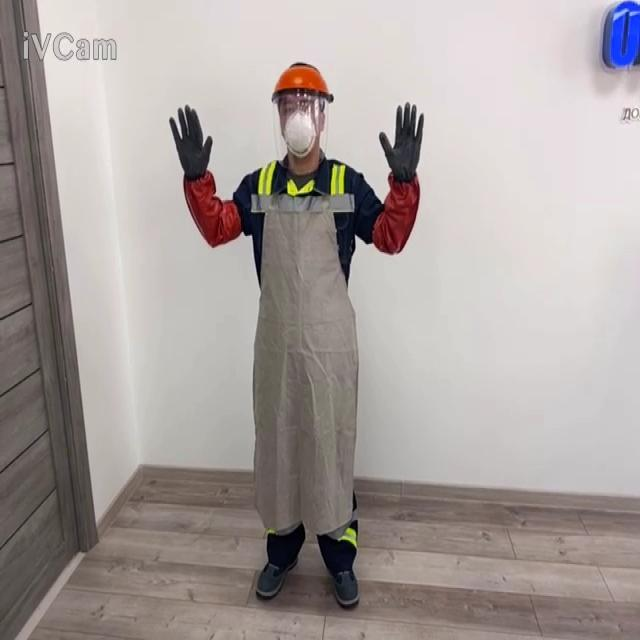Gloves: (168, 104, 242, 247), (600, 0, 639, 69)
Mask: (281, 106, 317, 158)
Protective apron: (250, 187, 359, 537)
Safety Shoes: (255, 556, 298, 597), (329, 566, 359, 606)
Sleeve: (182, 169, 242, 247), (371, 169, 420, 255)
gloves: (378, 101, 424, 183), (168, 104, 212, 181)
